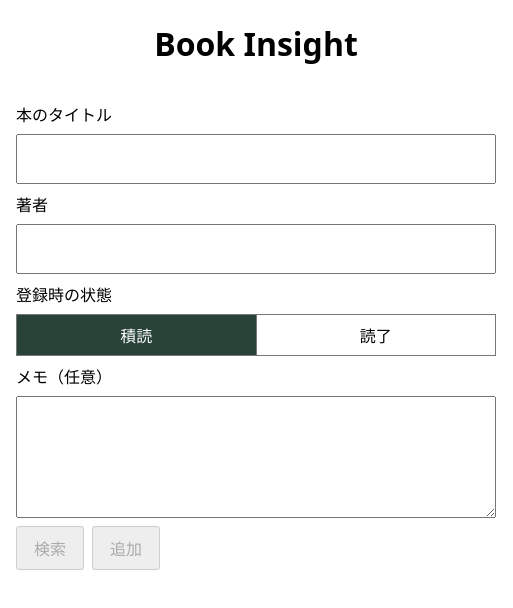
Scenario: App › 本を検索して候補から読了として登録できる
Type "成瀬は天下を取りにいく" into the field labelled "本のタイトル".
click(256, 159); type("成瀬は天下を取りにいく")  # box [16,134,496,184]
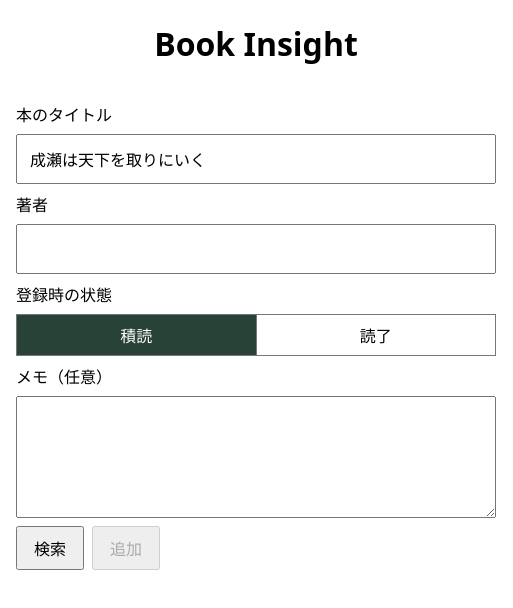
Click the button "検索".
click(50, 548)  # box [16,526,84,570]
(page scrolled)
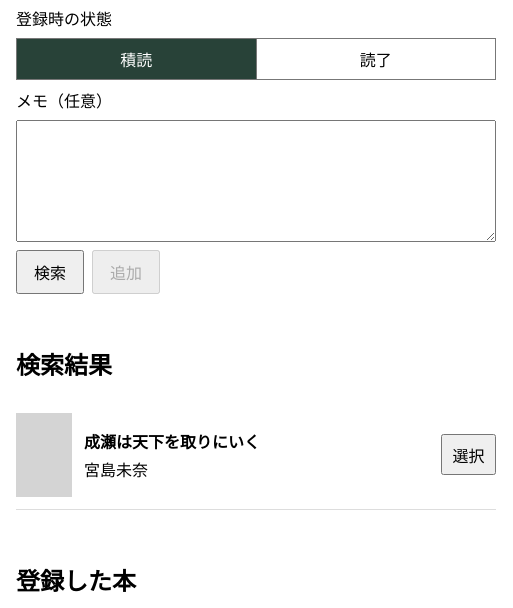
Expected: the heading "成瀬は天下を取りにいく" is shown, [84,431,260,453]
Expected: the text "宮島未奈" is shown, [84,459,148,481]
Click the button with aria-label "成瀬は天下を取りにいくを選択".
click(468, 455)  # box [441,434,496,475]
(page scrolled)
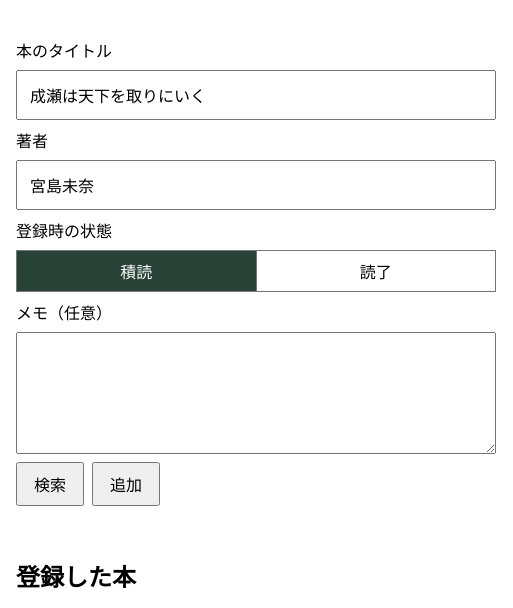
Expected: the field labelled "著者" holds "宮島未奈", [16,160,496,210]
Expected: the button "成瀬は天下を取りにいくを選択" is gone
Click the button "読了" below "登録時の状態".
click(376, 271)  # box [256,250,496,292]
(page scrolled)
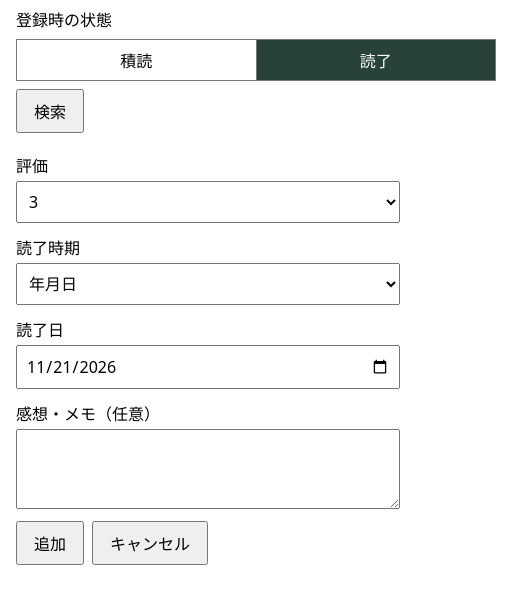
Click the button "追加".
click(50, 543)  # box [16,521,84,565]
(page scrolled)
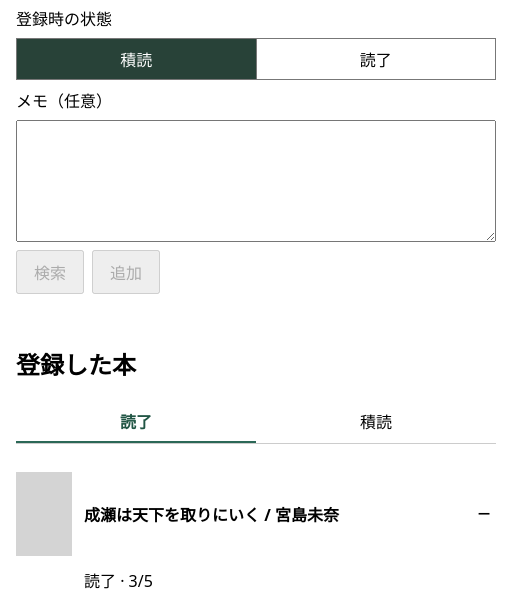
Expected: the text "成瀬は天下を取りにいく / 宮島未奈" is shown, [84,504,339,526]
